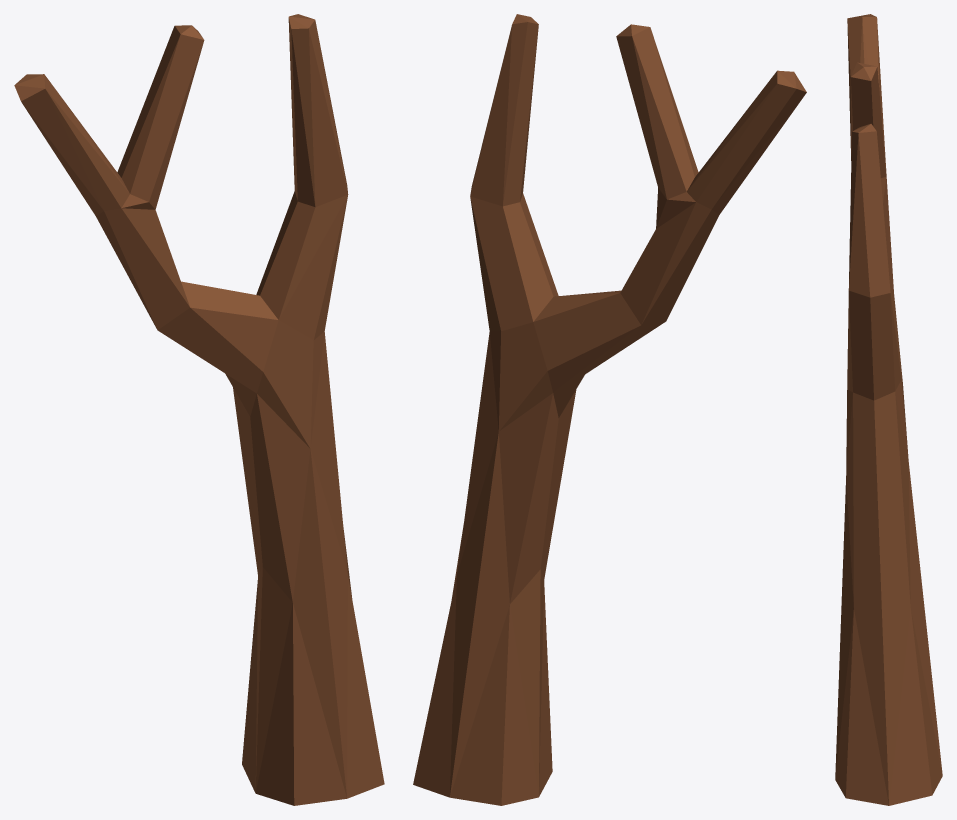
The model's file is Trunk_v01.fbx.
3 views of the same model, side by side, from view 1: azimuth 30°, elevation 25°; view 2: azimuth 150°, elevation 25°; view 3: azimuth 270°, elevation 25° (orthographic). The views are drawn at different scales.
Parts seen in each view (by area): view 1: Trunk_v01; view 2: Trunk_v01; view 3: Trunk_v01.
Boxes of the visible parts, x1,y1,x2,y2 form: Trunk_v01: [14, 14, 384, 805]; Trunk_v01: [413, 14, 806, 805]; Trunk_v01: [835, 14, 942, 805].
Size of the model in its own units: 12.41 by 25.51 by 3.76.
1 material, 1 textured.
